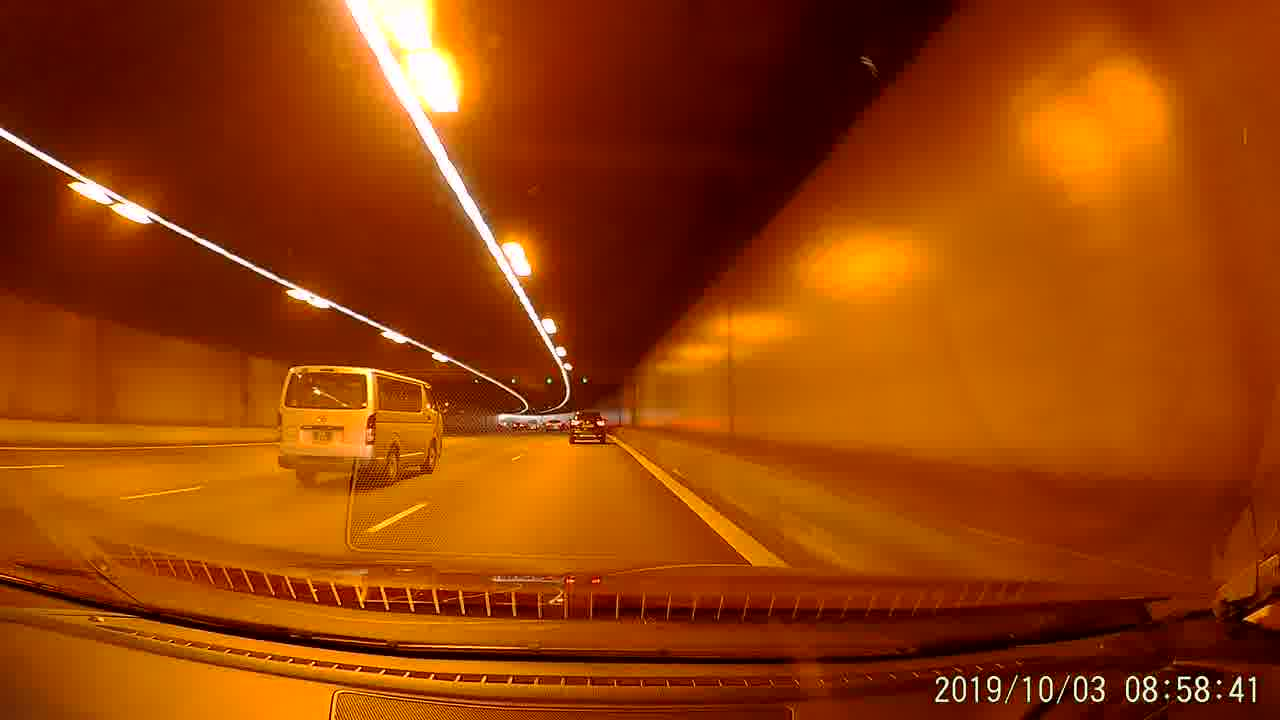car: (569, 408, 609, 447), (544, 420, 564, 432)
